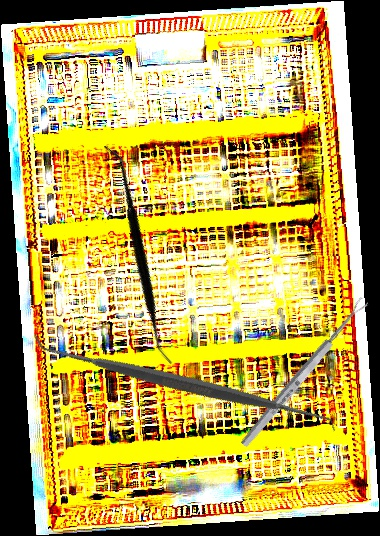Spatula Surgical: (32, 233, 337, 533), (26, 143, 250, 367)
Surgical Spoon: (238, 295, 371, 450)
